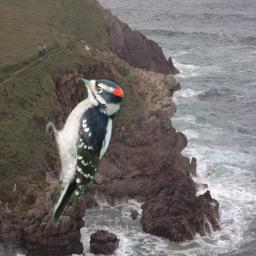Woodpecker: (46, 73, 127, 228)
